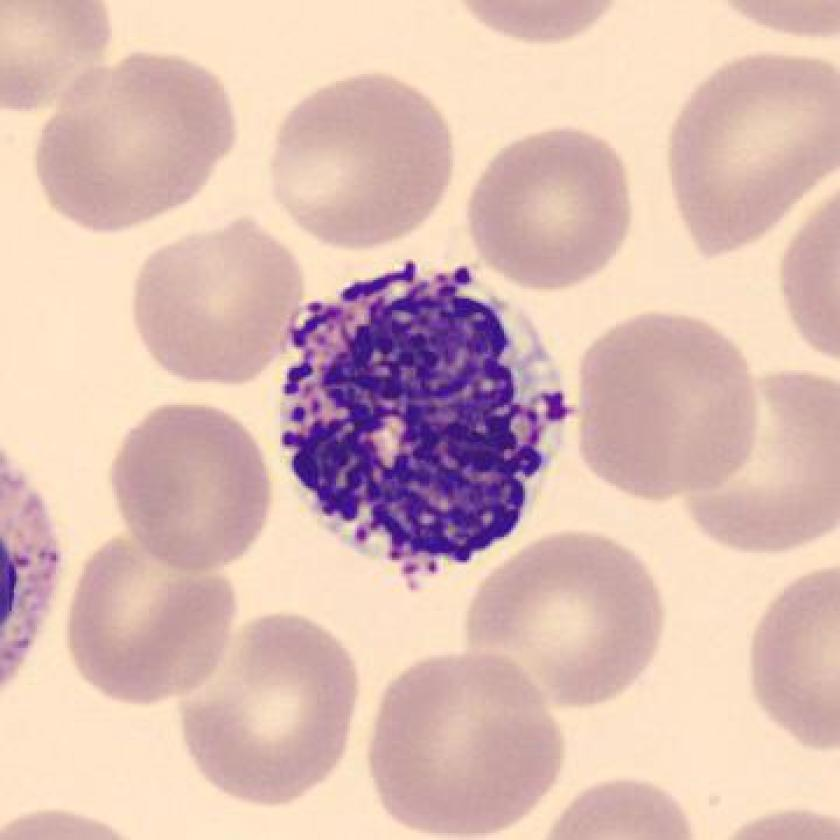basophil: (274, 267, 582, 580)
